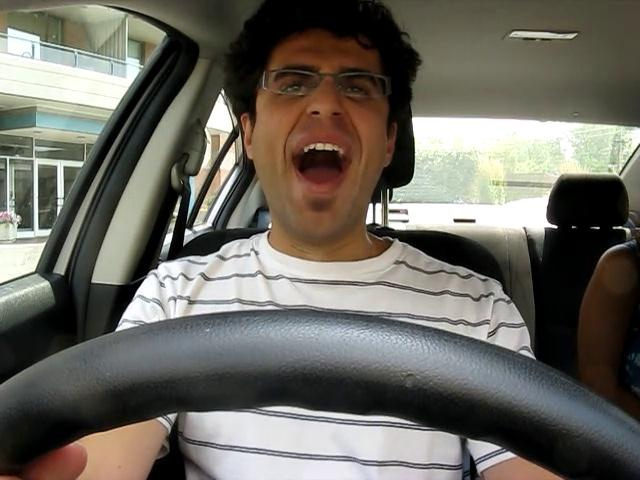open_eyeL: (265, 70, 325, 103)
open_eyeR: (328, 75, 389, 109)
yawn: (275, 134, 366, 189)
